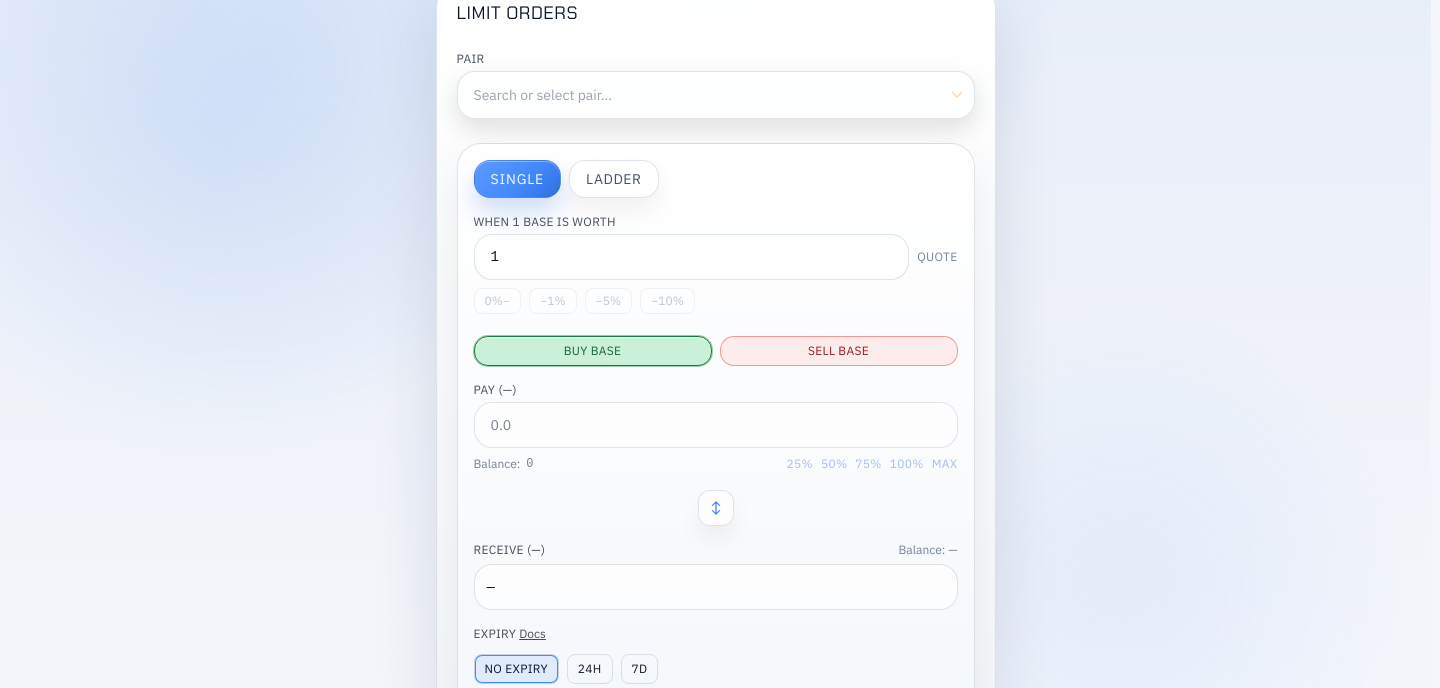
Test case: LimitOrdersPage › blocks silent duplicate when side changes during book edit (GitLab #312)
Click the dropdown named "Trading pair". click: coordinates (716, 95)
box: [456,71,974,119]
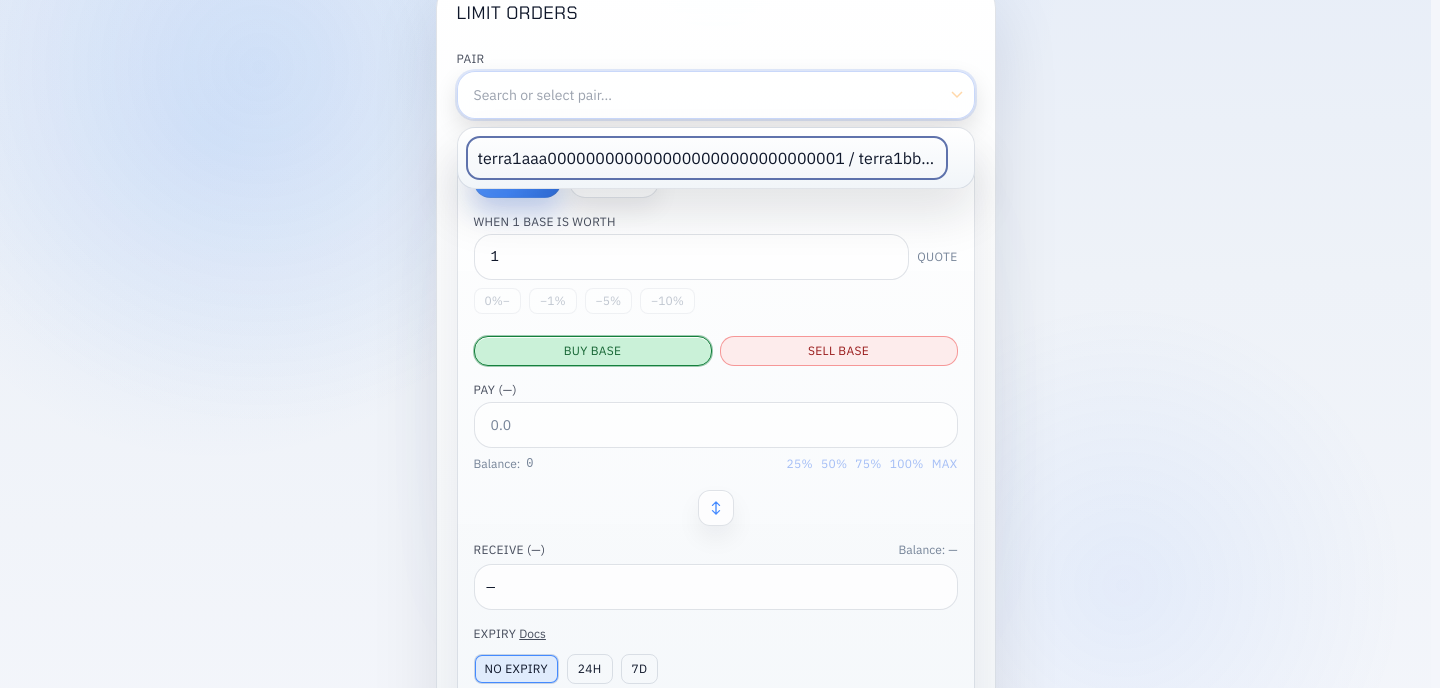
Click the option. click: coordinates (706, 158)
box: [466,136,948,180]
(page scrolled)
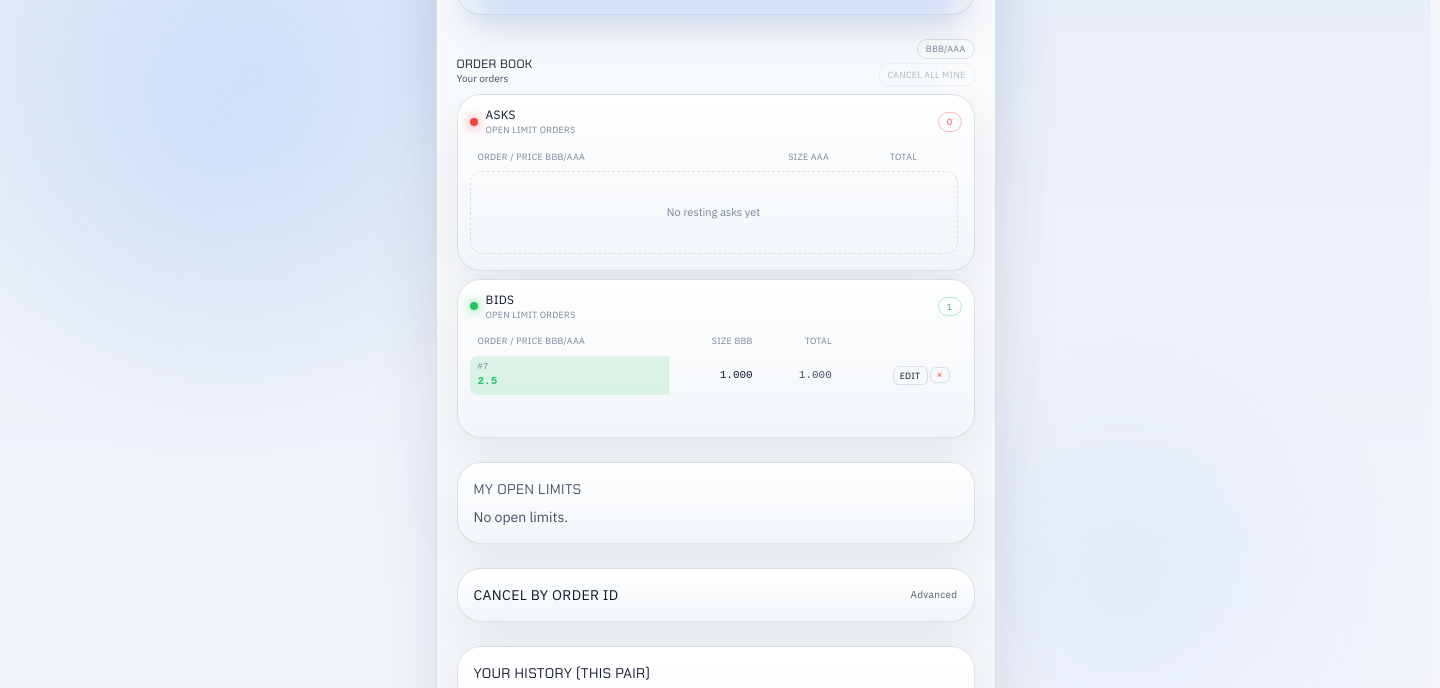
Click the button with test id "trade-book-edit-bid-7". click: coordinates (910, 375)
box: [893,366,928,385]
(page scrolled)
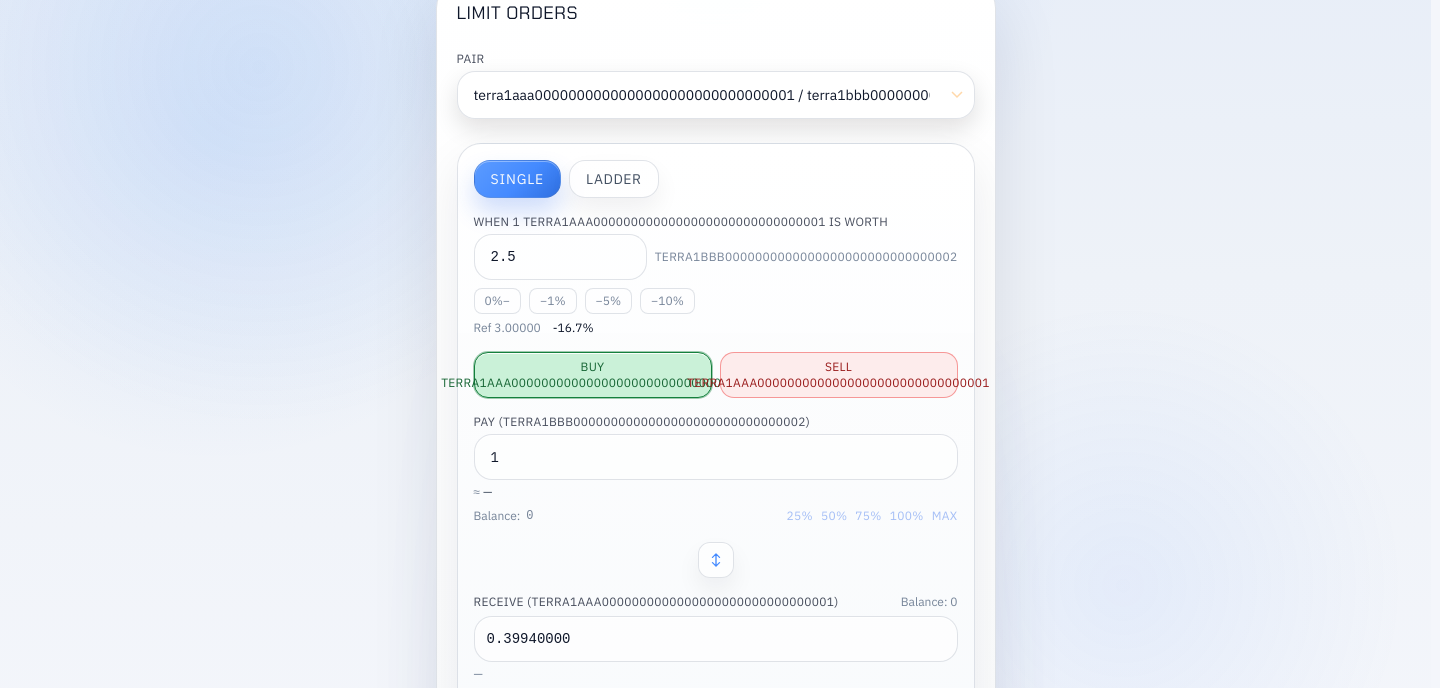
Click the radio button with test id "limit-orders-side-ask". click: coordinates (838, 375)
box: [720,352,958,398]
(page scrolled)
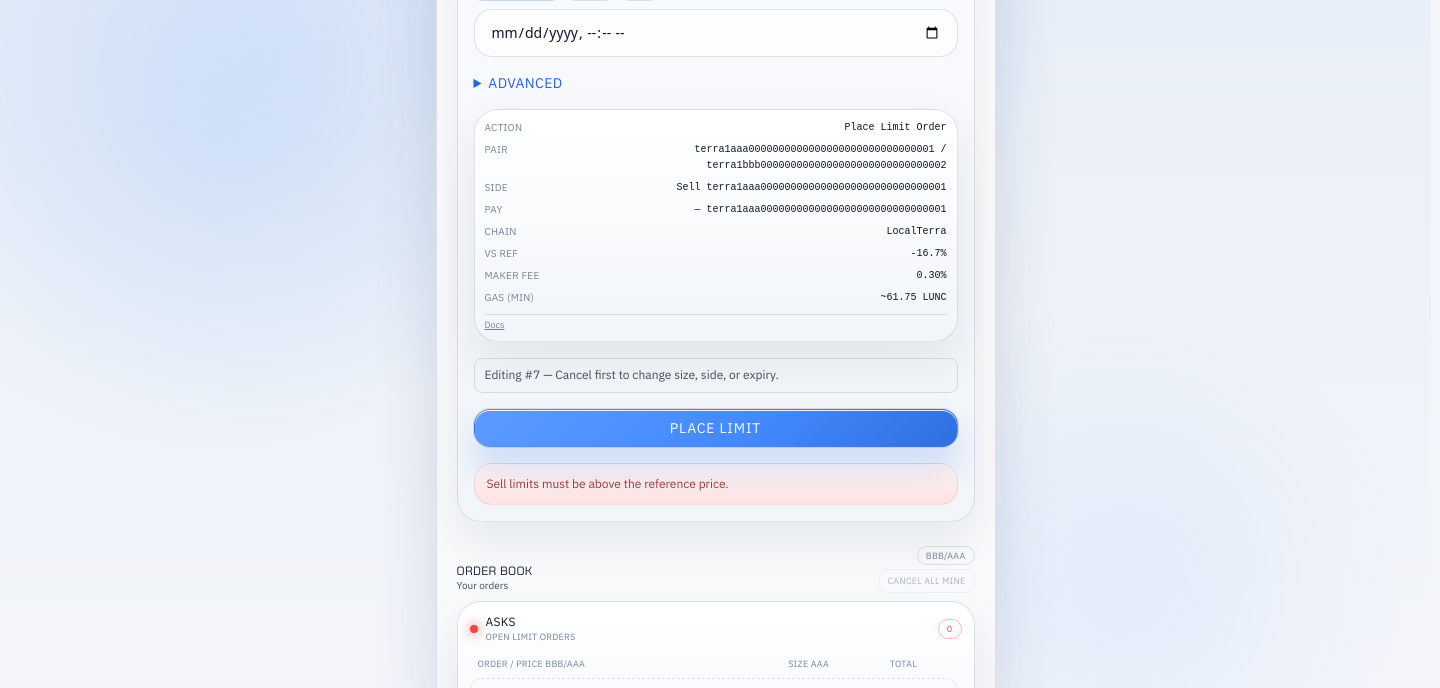
Check: the button with test id "limits-limit-submit" is disabled, box [474,409,958,447]
Check: the message with test id "limits-page-edit-context" shows "Cancel first to change size, side, or expiry", box [540,367,779,382]
